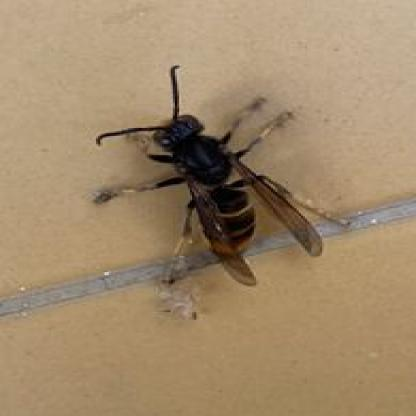Asian Hornet: (85, 62, 353, 290)
